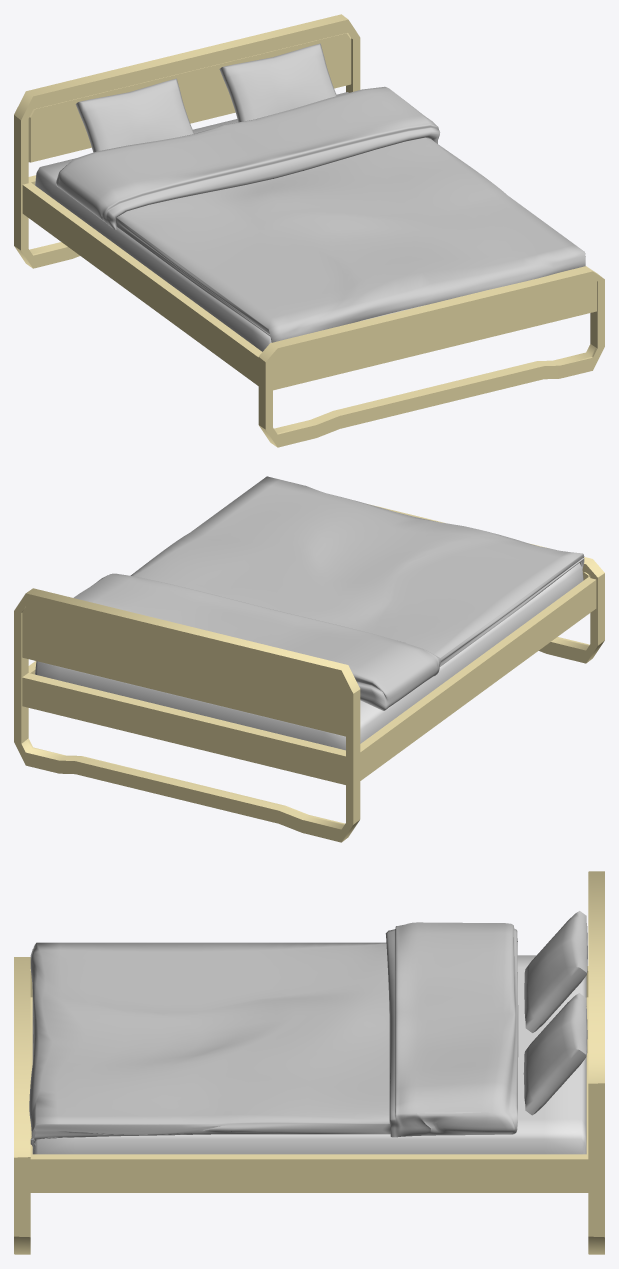
The model's file is IKEA-Anes_Double__Bed-3D.obj.
3 renders of one model, top to bottom at view 1: azimuth 30°, elevation 25°; view 2: azimuth 150°, elevation 25°; view 3: azimuth 270°, elevation 25°, orthographic. The views are drawn at different scales.
Visible parts, largest first — view 1: Box01; view 2: Box01; view 3: Box01.
Boxes of the visible parts, box(x1,y1,x2,y2) form: Box01: box(14, 14, 604, 447); Box01: box(14, 476, 604, 842); Box01: box(14, 871, 604, 1254).
Bounding box in the file's own units: 4116 × 1997 × 5287.
